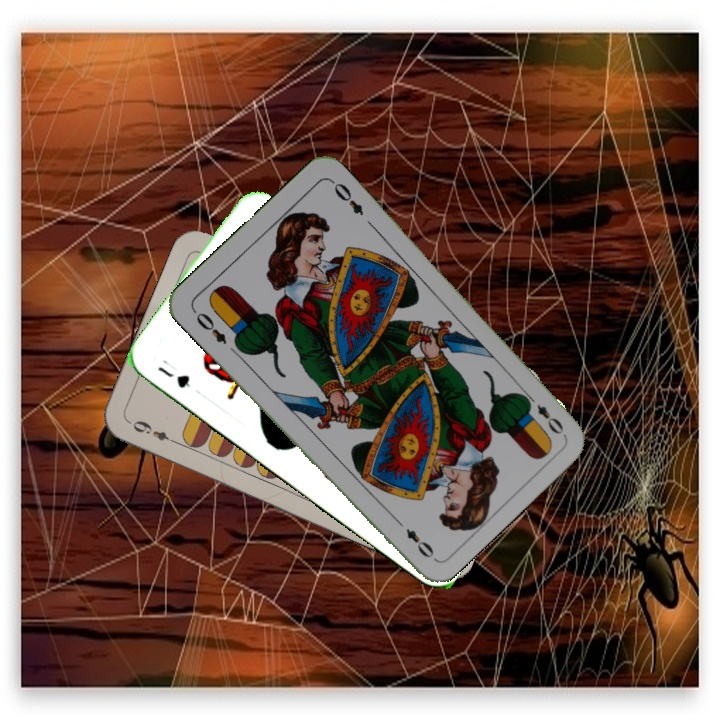E9: (128, 416, 181, 447)
EO: (521, 389, 567, 437), (189, 306, 230, 347)
GU: (153, 362, 193, 391)
